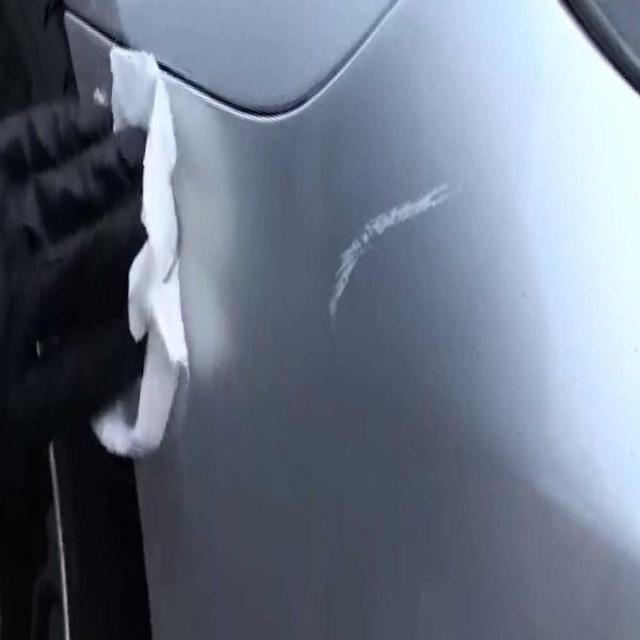scratch: (327, 169, 451, 337)
